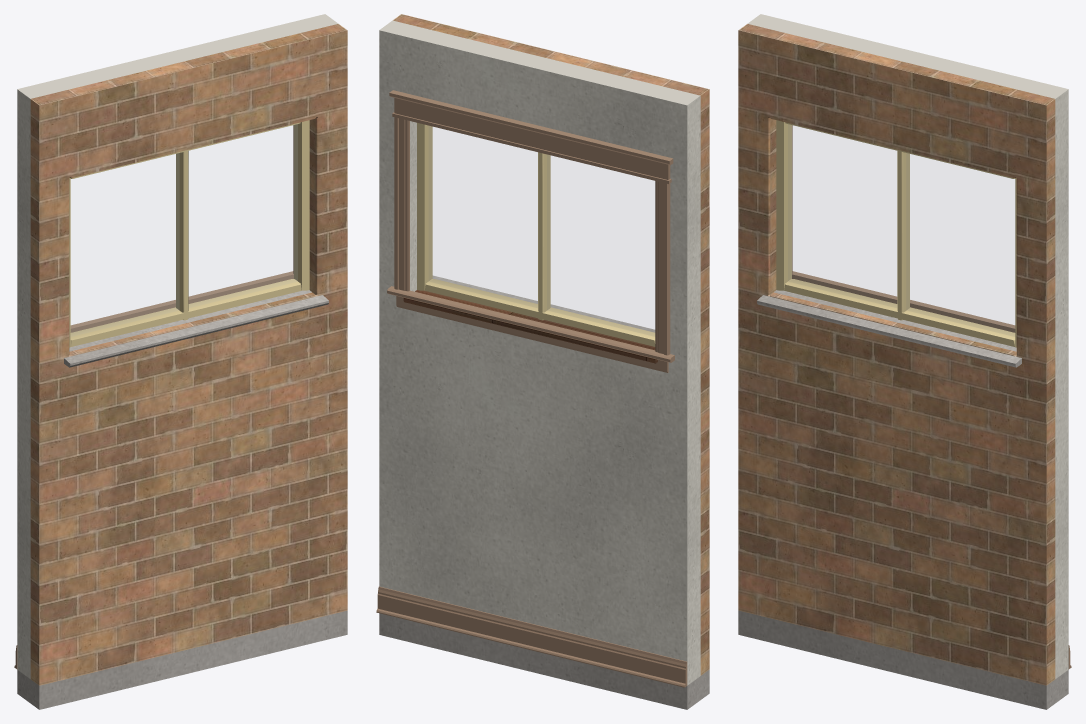
Rendered from b_win.glb.
3 views of the same model, side by side, from view 1: azimuth 30°, elevation 25°; view 2: azimuth 150°, elevation 25°; view 3: azimuth 330°, elevation 25° (orthographic).
Visible parts, largest first — view 1: b_win_brick, folha_glass, b_win_concrete, b_win_plaster, b_win_gold, molduras; view 2: b_win_plaster, folha_glass, molduras, b_win_brick, b_win_concrete, b_win_gold, b_win_walnut; view 3: b_win_brick, folha_glass, b_win_concrete, b_win_plaster, b_win_gold, molduras.
Boxes of the visible parts, left/top/right/bottom form: b_win_brick: left=30, top=24, right=347, bottom=685; folha_glass: left=71, top=125, right=297, bottom=335; b_win_concrete: left=17, top=290, right=347, bottom=709; b_win_plaster: left=17, top=14, right=338, bottom=678; b_win_gold: left=69, top=120, right=309, bottom=347; molduras: left=14, top=125, right=293, bottom=669; b_win_plaster: left=379, top=20, right=700, bottom=685; folha_glass: left=429, top=126, right=654, bottom=335; molduras: left=376, top=90, right=687, bottom=687; b_win_brick: left=393, top=14, right=709, bottom=675; b_win_concrete: left=379, top=275, right=709, bottom=709; b_win_gold: left=417, top=123, right=655, bottom=346; b_win_walnut: left=403, top=290, right=657, bottom=363; b_win_brick: left=738, top=24, right=1055, bottom=685; folha_glass: left=788, top=125, right=1014, bottom=335; b_win_concrete: left=738, top=290, right=1068, bottom=709; b_win_plaster: left=747, top=14, right=1068, bottom=678; b_win_gold: left=776, top=120, right=1016, bottom=347; molduras: left=792, top=125, right=1071, bottom=669.
Bounding box in the file's own units: 2 × 3.75 × 0.37.
Materials: 7 (4 with a texture image).
